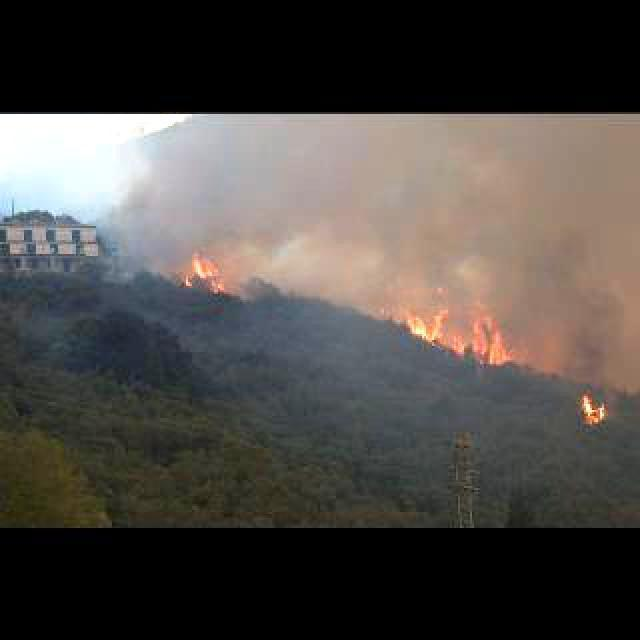Fire: (374, 282, 510, 368), (174, 250, 228, 300), (576, 394, 606, 420)
Smoke: (107, 121, 640, 363)
